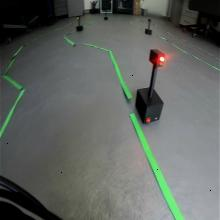red: (149, 47, 165, 69)
